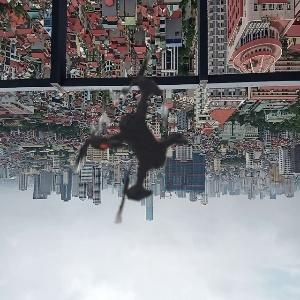drone: (13, 17, 256, 260)
